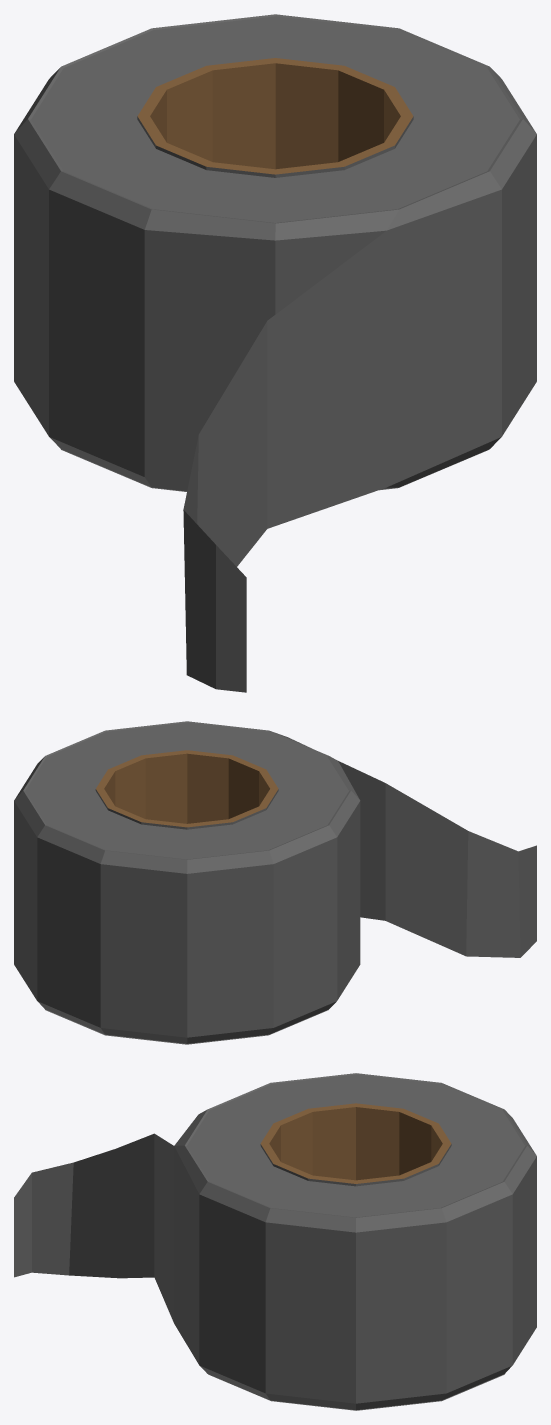
The model's file is Duct_Tape.glb.
The picture shows the model from 3 angles, top to bottom: view 1: azimuth 30°, elevation 25°; view 2: azimuth 150°, elevation 25°; view 3: azimuth 270°, elevation 25°; orthographic projection. The views are drawn at different scales.
Visible parts, largest first — view 1: Duct_Tape; view 2: Duct_Tape; view 3: Duct_Tape.
Boxes of the visible parts, bbox=[...] form: Duct_Tape: bbox=[14, 14, 536, 692]; Duct_Tape: bbox=[14, 721, 536, 1044]; Duct_Tape: bbox=[14, 1073, 536, 1410].
Size of the model in its own units: 0.4041 by 0.2475 by 0.5062.
